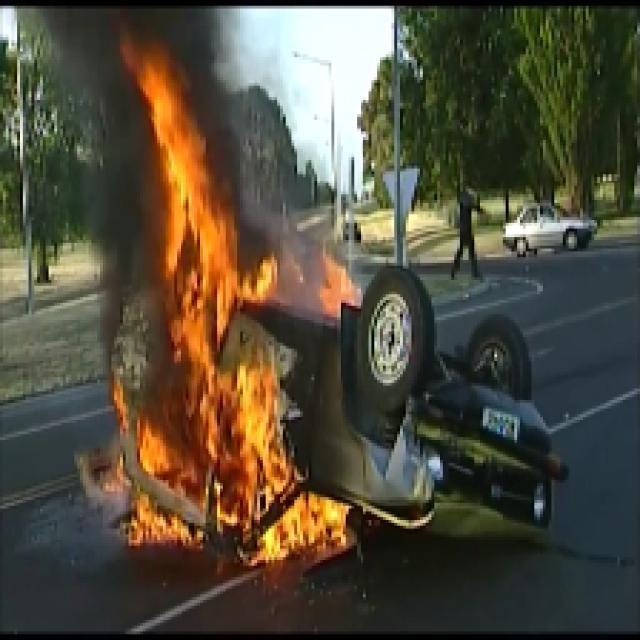Fire: (139, 344, 339, 548), (139, 104, 231, 310)
Smoke: (46, 8, 113, 124), (88, 143, 134, 269)
